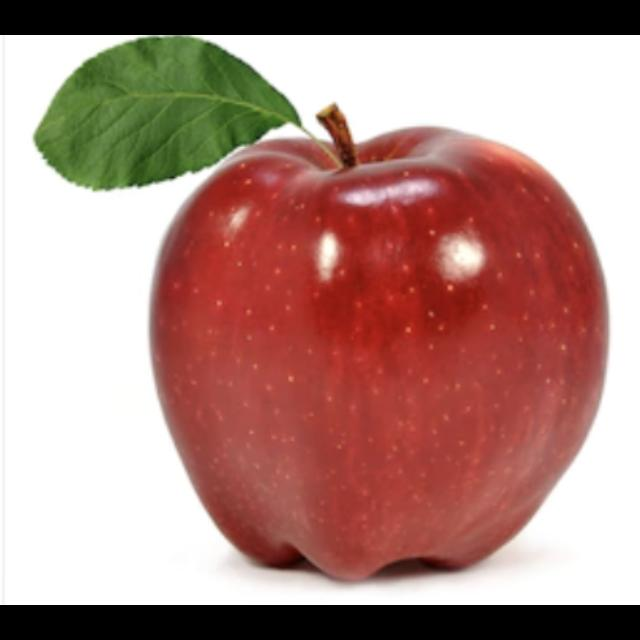Apel Segar: (147, 109, 612, 585)
